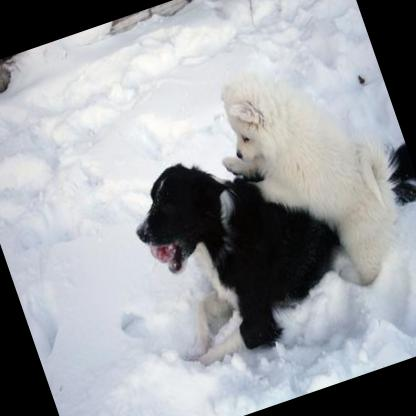Samoyed: (194, 34, 416, 318)
